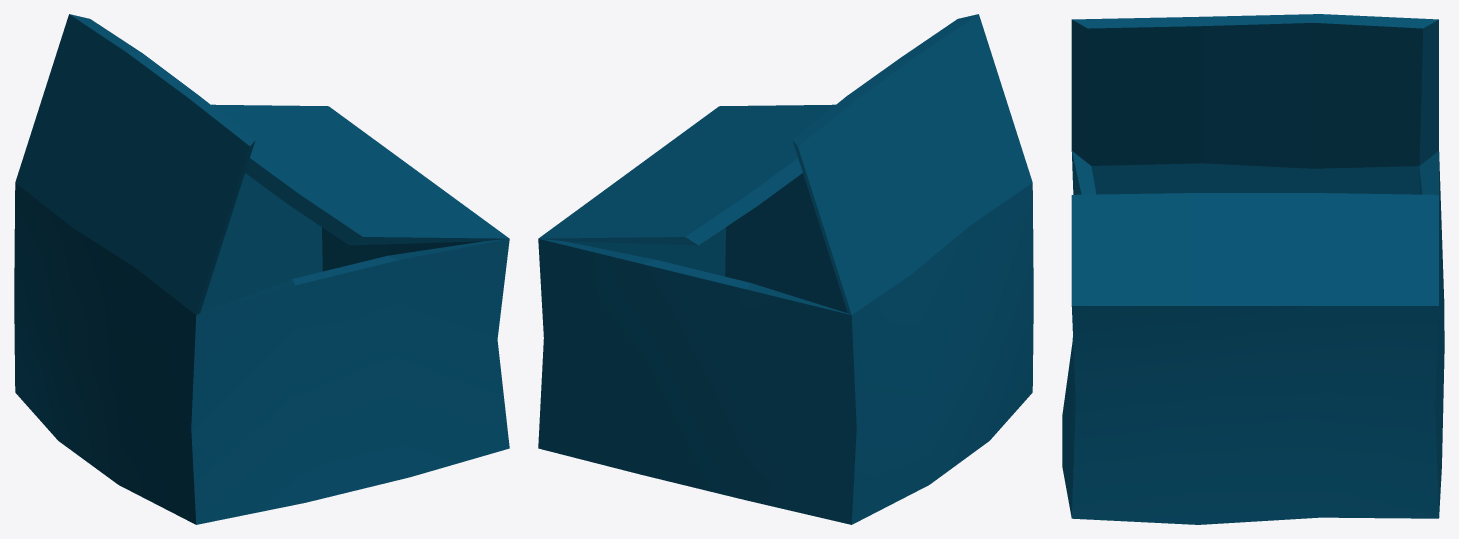
The model's file is mesh_CardboardBox1_v2.fbx.
The picture shows the model from 3 angles, left to right: view 1: azimuth 30°, elevation 25°; view 2: azimuth 150°, elevation 25°; view 3: azimuth 270°, elevation 25°; orthographic projection.
Visible parts, largest first — view 1: mesh_CardboardBox1_v2_0; view 2: mesh_CardboardBox1_v2_0; view 3: mesh_CardboardBox1_v2_0.
Part boxes in pixels (x1,y1,x2,y2): mesh_CardboardBox1_v2_0: [14, 14, 509, 524]; mesh_CardboardBox1_v2_0: [538, 14, 1033, 524]; mesh_CardboardBox1_v2_0: [1062, 14, 1444, 524].
Bounding box in the file's own units: 35.72 × 37.92 × 34.65.
